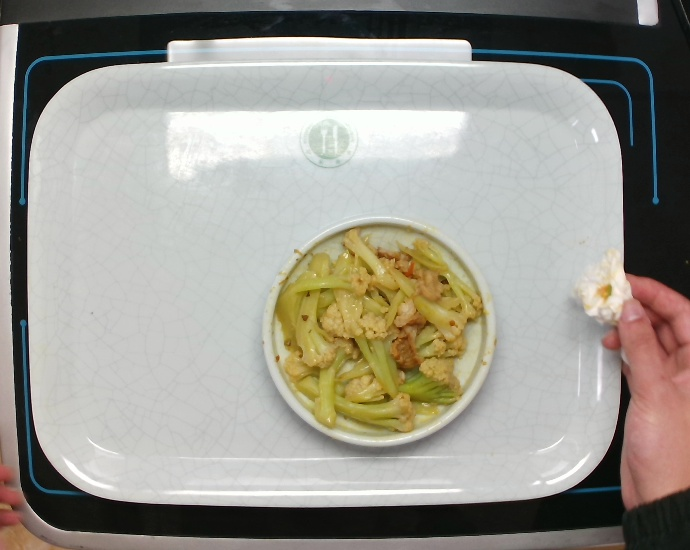JYsf-Xiao_Yuan_Pan: (261, 219, 498, 455)
